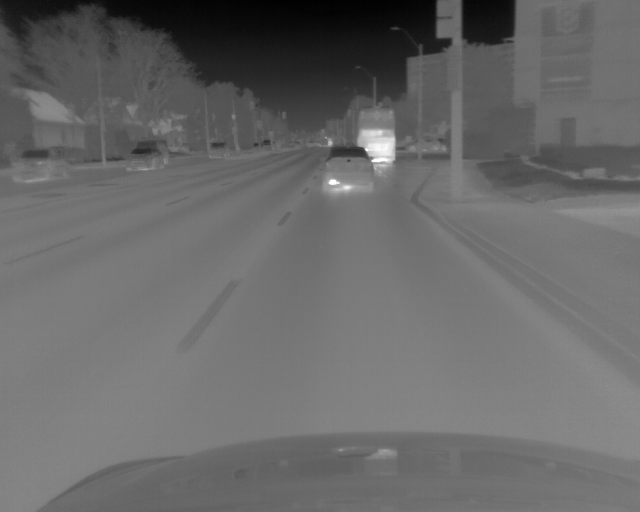car: (354, 107, 395, 165), (323, 146, 373, 192), (10, 147, 70, 183), (128, 139, 168, 170), (208, 139, 227, 161)
